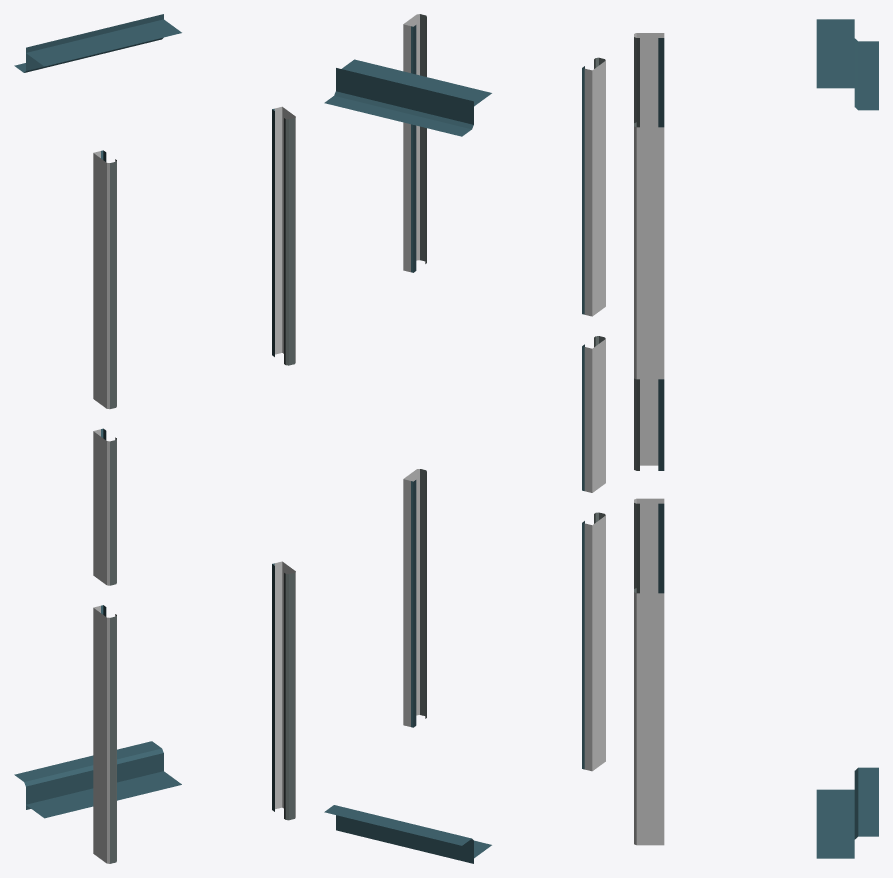
The model's file is SM_000235_w40h003_001roka_wall03_1.fbx.
3 renders of one model, left to right at view 1: azimuth 30°, elevation 25°; view 2: azimuth 150°, elevation 25°; view 3: azimuth 270°, elevation 25°, orthographic. The views are drawn at different scales.
Parts seen in each view (by area): view 1: SM_000235.001; view 2: SM_000235.001; view 3: SM_000235.001.
Boxes of the visible parts, x1,y1,x2,y2 form: SM_000235.001: (14,14,295,863); SM_000235.001: (324,14,605,863); SM_000235.001: (634,19,878,858).
Bounding box in the file's own units: 3.7 × 14.26 × 4.05.
